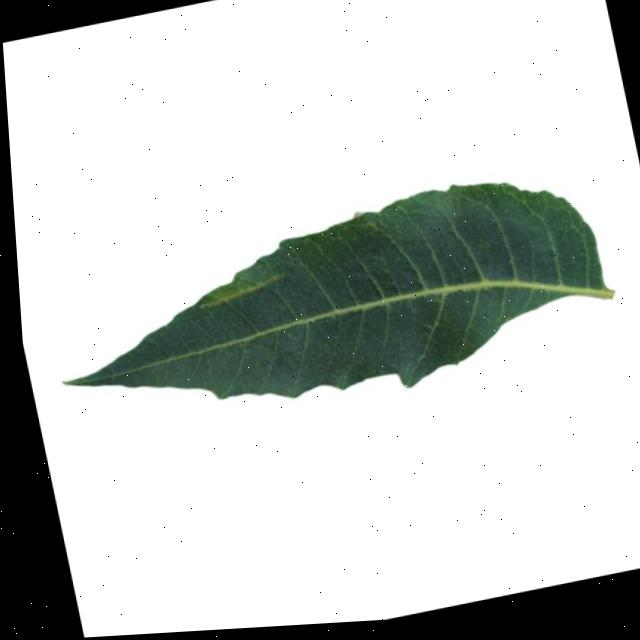Wet: (56, 188, 608, 402)
